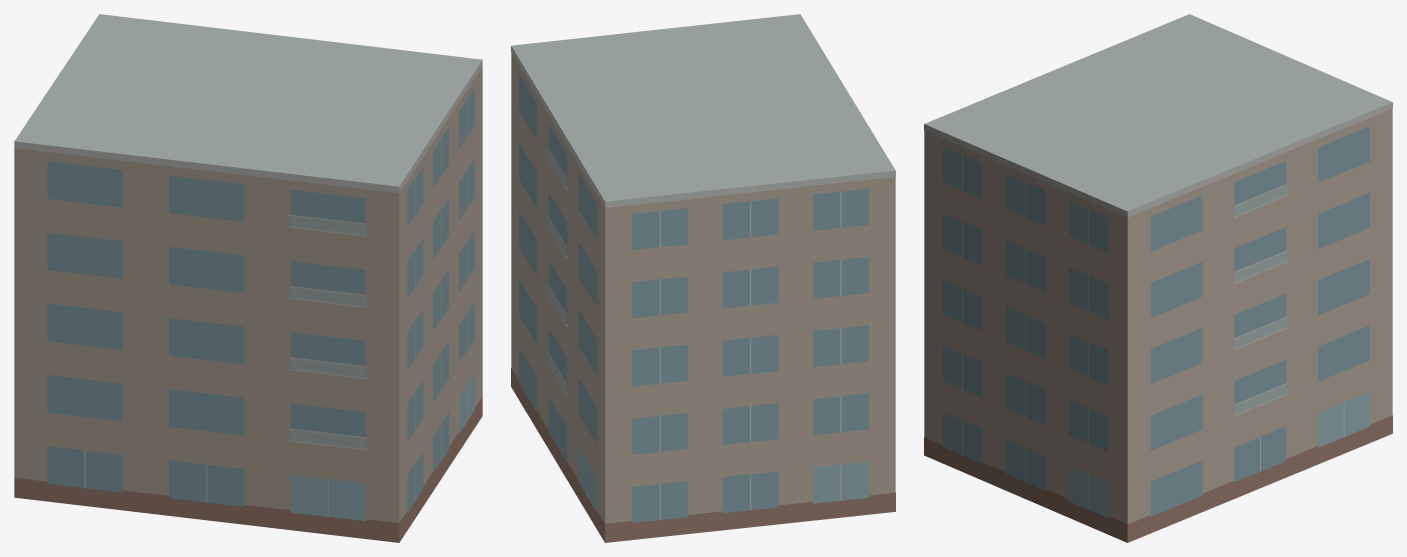
The model's file is survey-upis-32881783.glb.
The picture shows the model from 3 angles, left to right: view 1: azimuth 30°, elevation 25°; view 2: azimuth 150°, elevation 25°; view 3: azimuth 270°, elevation 25°; orthographic projection. The views are drawn at different scales.
Parts seen in each view (by area): view 1: survey-upis-32881783.tmp; view 2: survey-upis-32881783.tmp; view 3: survey-upis-32881783.tmp.
Part boxes in pixels (x1,y1,x2,y2): survey-upis-32881783.tmp: [14, 14, 482, 542]; survey-upis-32881783.tmp: [511, 14, 895, 542]; survey-upis-32881783.tmp: [924, 14, 1392, 542].
Size of the model in its own units: 16.75 by 13.1 by 16.8.
